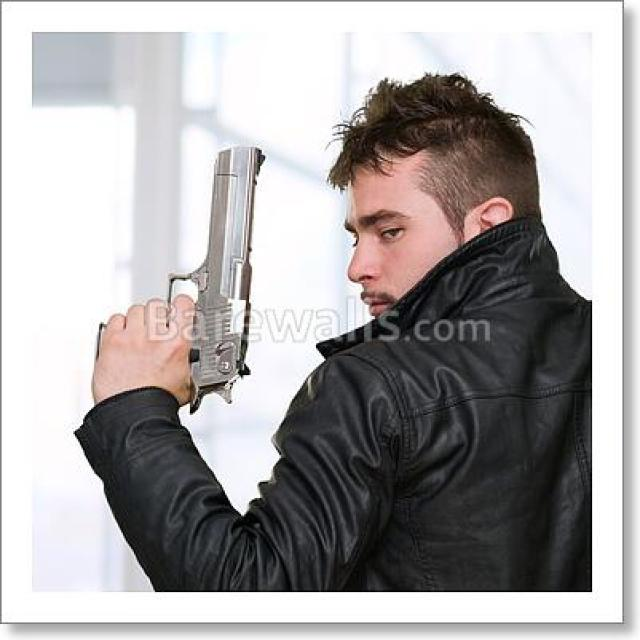HandGun: (168, 147, 267, 415)
